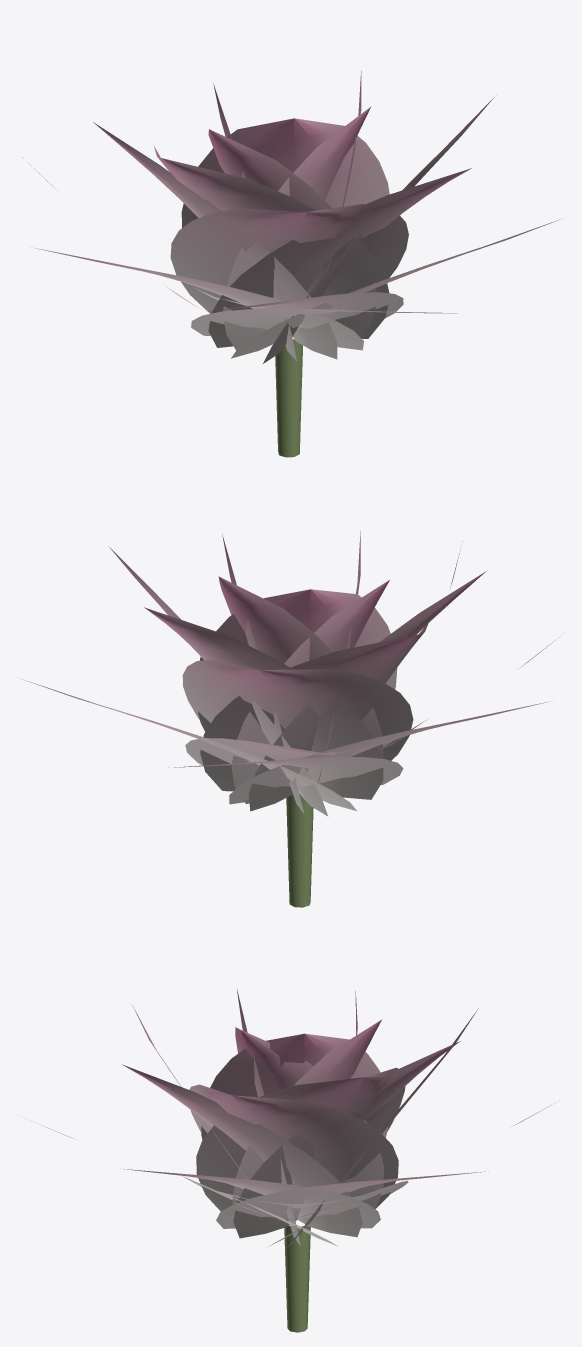
Rendered from lotus_flower.glb.
The picture shows the model from 3 angles, top to bottom: view 1: azimuth 30°, elevation 25°; view 2: azimuth 150°, elevation 25°; view 3: azimuth 270°, elevation 25°; orthographic projection. The views are drawn at different scales.
Visible parts, largest first — view 1: lotus_flower; view 2: lotus_flower; view 3: lotus_flower.
Boxes of the visible parts, box(x1,y1,x2,y2) form: lotus_flower: box(22, 70, 562, 457); lotus_flower: box(21, 531, 560, 907); lotus_flower: box(30, 989, 559, 1332).
Size of the model in its own units: 1.62 by 1.08 by 1.64.
